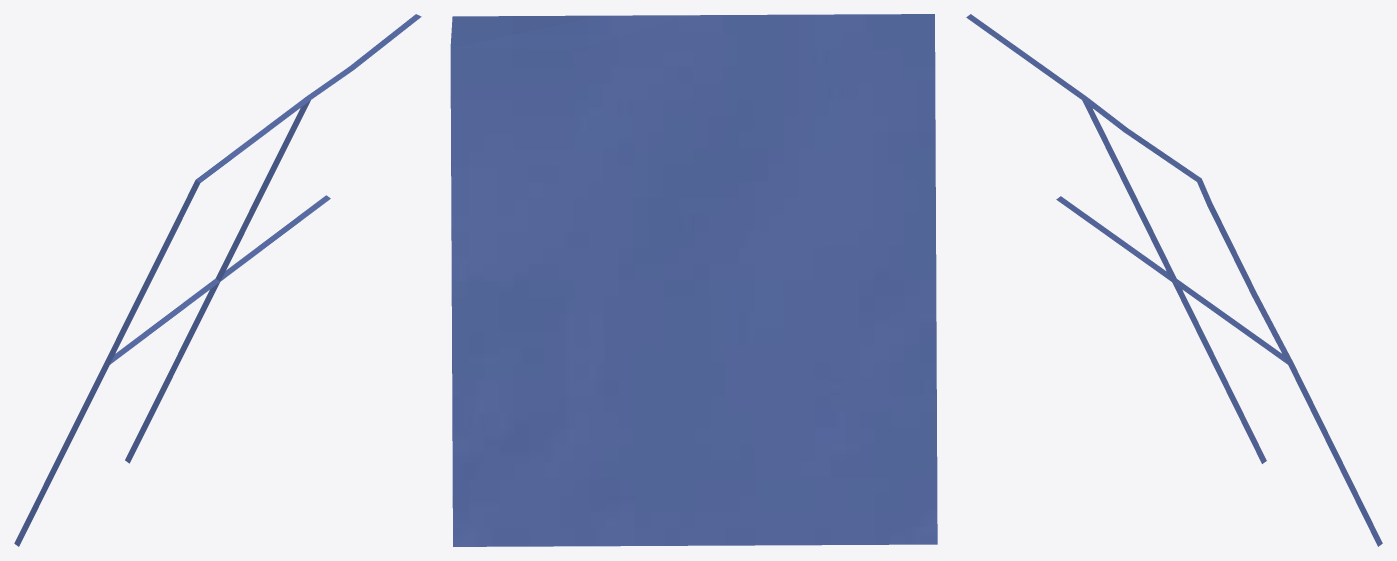
3 renders of one model, left to right at view 1: azimuth 30°, elevation 25°; view 2: azimuth 150°, elevation 25°; view 3: azimuth 270°, elevation 25°, orthographic. The views are drawn at different scales.
Size of the model in its own units: 19715 by 17886 by 16411.
Materials: 1 (1 with a texture image).
